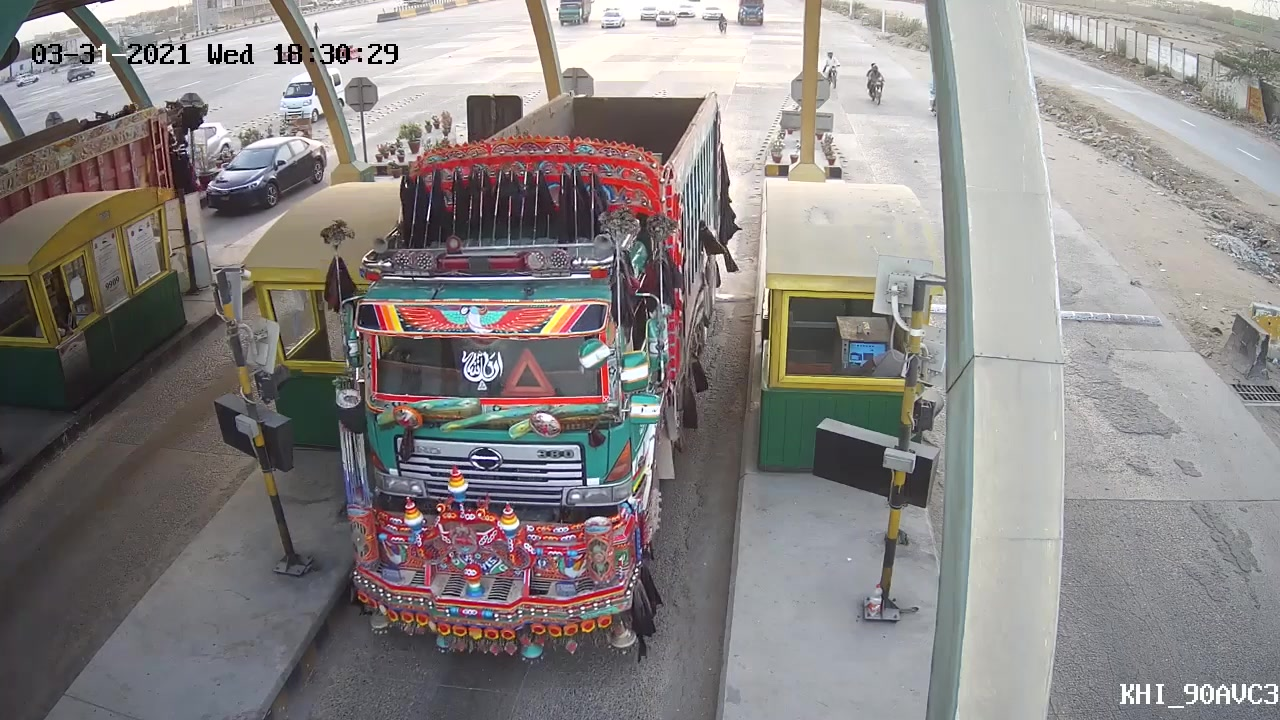F5: (329, 83, 736, 668)
